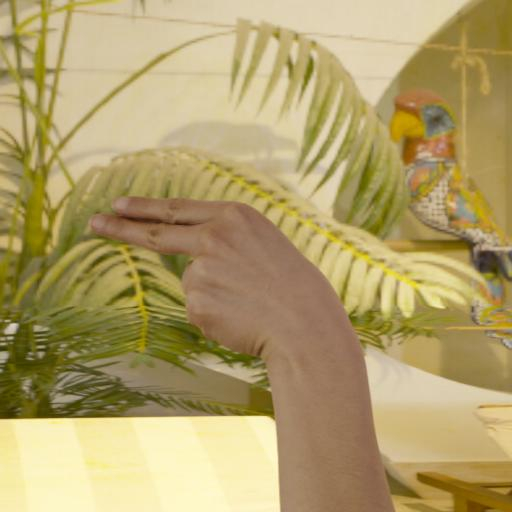H: (78, 168, 392, 422)
